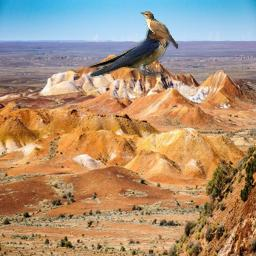Cuckoo: (140, 11, 178, 49)
Swallow: (74, 22, 171, 78)
